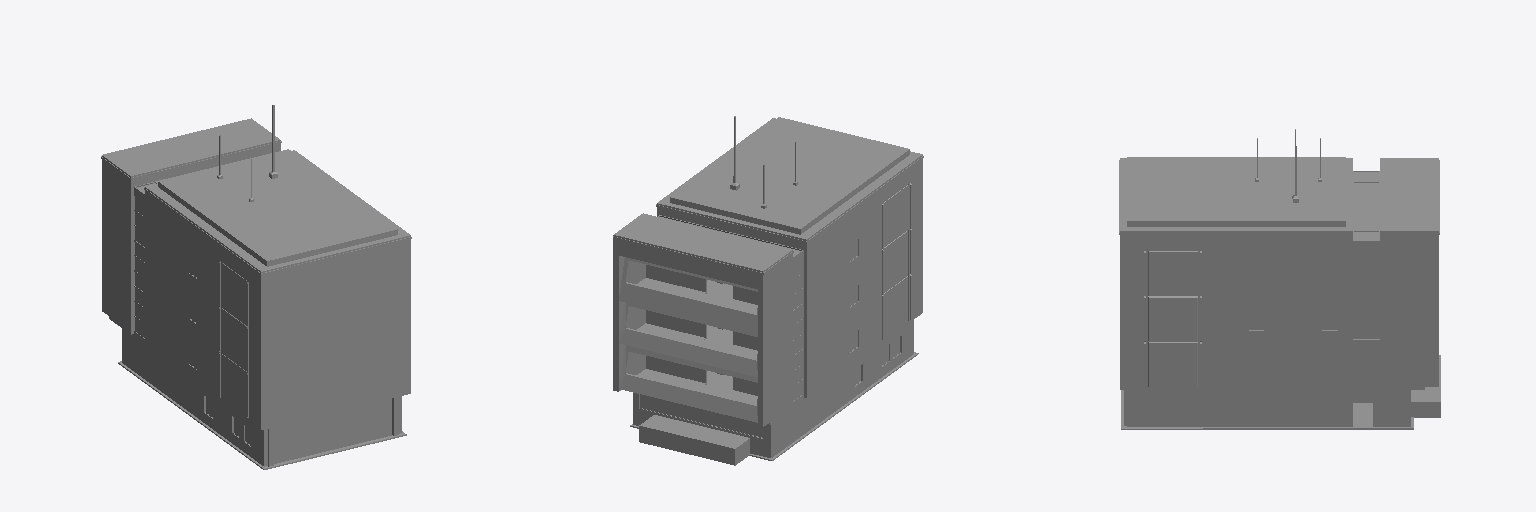
Rendered from ResidentialBuildings002.obj.
The picture shows the model from 3 angles: view 1: azimuth 30°, elevation 25°; view 2: azimuth 150°, elevation 25°; view 3: azimuth 270°, elevation 25°; orthographic projection.
Parts seen in each view (by area): view 1: Residential_Buildings_002_Cube.012; view 2: Residential_Buildings_002_Cube.012; view 3: Residential_Buildings_002_Cube.012.
Boxes of the visible parts, x1=… form: Residential_Buildings_002_Cube.012: x1=101, y1=105, x2=411, y2=469; Residential_Buildings_002_Cube.012: x1=613, y1=116, x2=923, y2=465; Residential_Buildings_002_Cube.012: x1=1119, y1=129, x2=1440, y2=429.
Bounding box in the file's own units: 12.59 × 21.99 × 23.1.